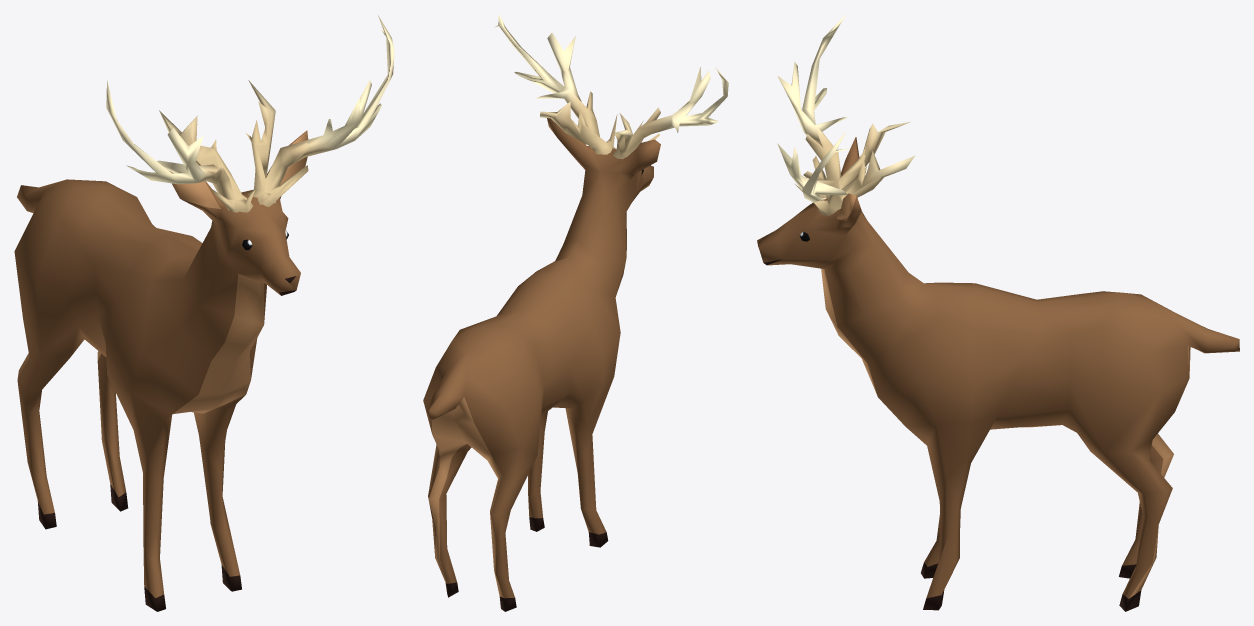
3 renders of one model, left to right at view 1: azimuth 30°, elevation 25°; view 2: azimuth 150°, elevation 25°; view 3: azimuth 270°, elevation 25°, orthographic. The views are drawn at different scales.
Parts seen in each view (by area): view 1: DeerMale; view 2: DeerMale; view 3: DeerMale.
Boxes of the visible parts, x1=… form: DeerMale: x1=14, y1=15, x2=394, y2=611; DeerMale: x1=423, y1=14, x2=728, y2=611; DeerMale: x1=757, y1=15, x2=1239, y2=611.
Size of what is drawn, in the model's own units: 1.25 by 2.44 by 2.05.
1 material, 1 textured.
